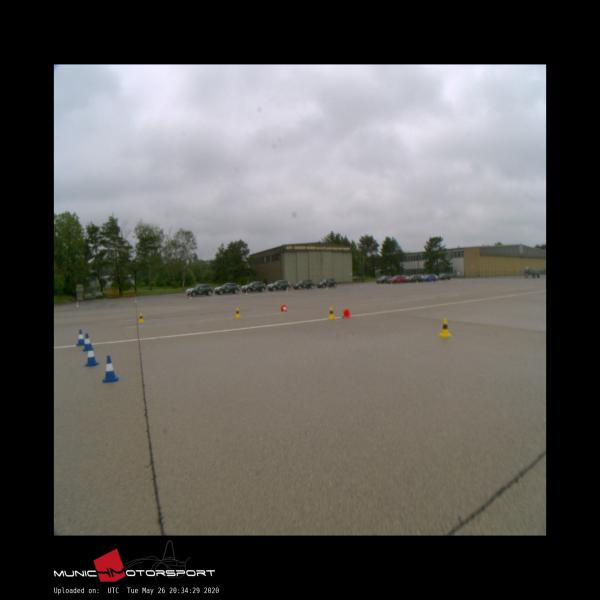blue_cone: (103, 356, 118, 382), (85, 345, 99, 366), (83, 334, 93, 351), (77, 330, 86, 345)
large_orange_cone: (341, 310, 351, 318)
orange_cone: (281, 305, 287, 311)
yellow_cone: (439, 319, 451, 336), (328, 307, 335, 319), (234, 308, 240, 317), (138, 313, 144, 322)
